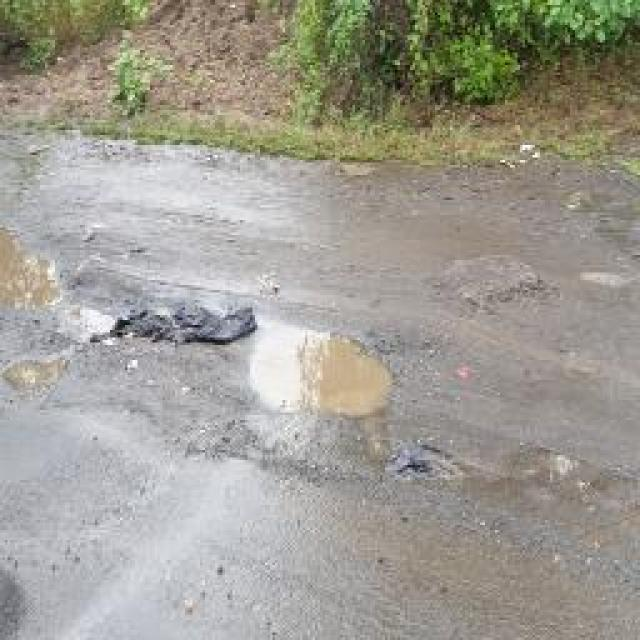puddle: (243, 327, 393, 419)
